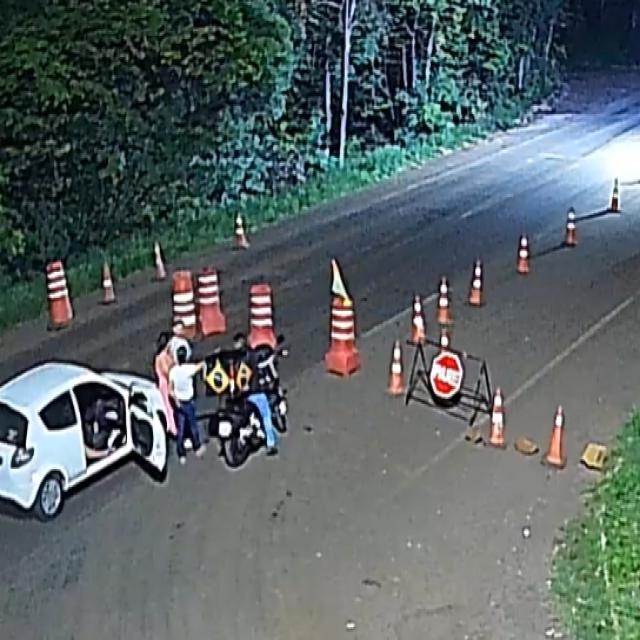big_cone: (325, 300, 360, 375), (246, 282, 276, 352), (44, 260, 74, 330), (196, 268, 226, 336), (171, 270, 198, 338)
small_cone: (546, 404, 566, 465), (488, 387, 507, 447), (388, 340, 404, 395), (436, 275, 453, 325), (411, 292, 427, 344), (100, 260, 118, 304), (468, 258, 484, 306), (152, 240, 168, 281), (516, 232, 530, 272), (234, 213, 250, 248), (564, 208, 577, 247), (610, 177, 620, 211)
stop_sign: (429, 351, 464, 399)
